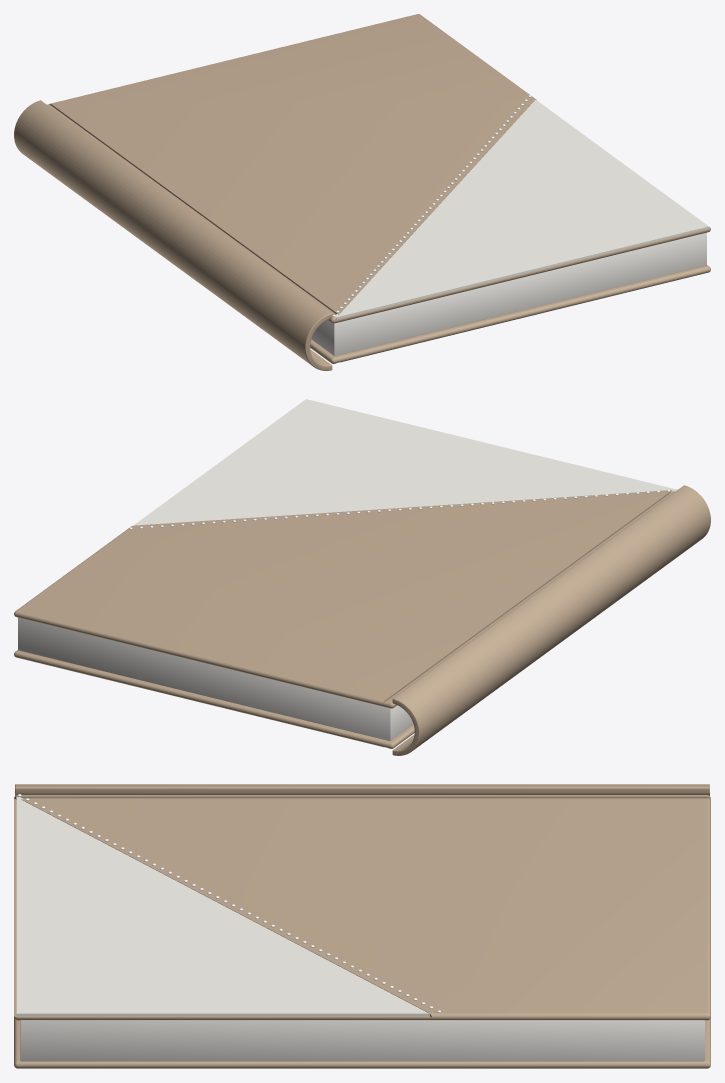
File: oblique--portrait.glb
3 views of the same model, one above another, from view 1: azimuth 30°, elevation 25°; view 2: azimuth 150°, elevation 25°; view 3: azimuth 270°, elevation 25° (orthographic). The views are drawn at different scales.
Parts seen in each view (by area): view 1: CoverFront, Band, Spine, Pages, CoverBack; view 2: CoverFront, Band, Spine, Pages, CoverBack; view 3: CoverFront, Band, Pages, Spine, CoverBack, Crystal.
Boxes of the visible parts, x1,y1,x2,y2 form: CoverFront: [47, 14, 710, 323]; Band: [335, 99, 708, 318]; Spine: [14, 100, 332, 370]; Pages: [311, 232, 706, 356]; CoverBack: [310, 265, 710, 363]; CoverFront: [14, 490, 673, 708]; Band: [133, 399, 676, 525]; Spine: [392, 485, 710, 755]; Pages: [18, 617, 413, 740]; CoverBack: [14, 650, 414, 748]; CoverFront: [14, 795, 710, 1020]; Band: [16, 797, 429, 1015]; Pages: [20, 1020, 704, 1061]; Spine: [15, 784, 709, 795]; CoverBack: [14, 1018, 710, 1068]; Crystal: [17, 794, 441, 1012].
Bounding box in the file's own units: 0.3208 × 0.043 × 0.4.
